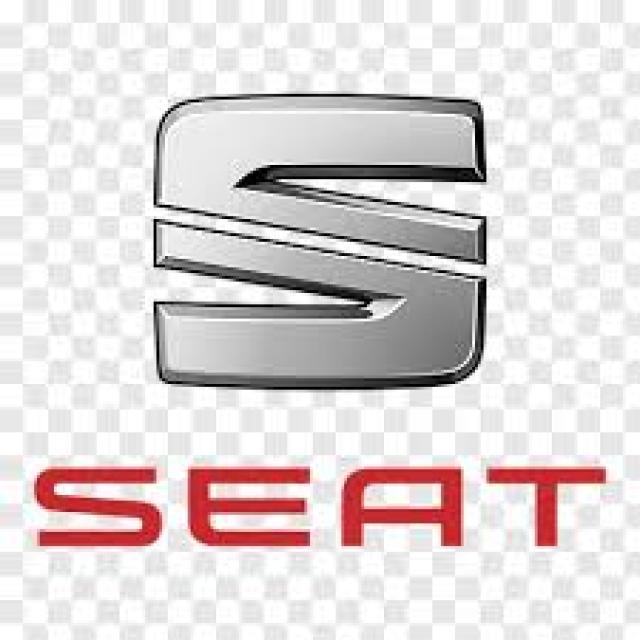seat: (149, 92, 494, 394)
